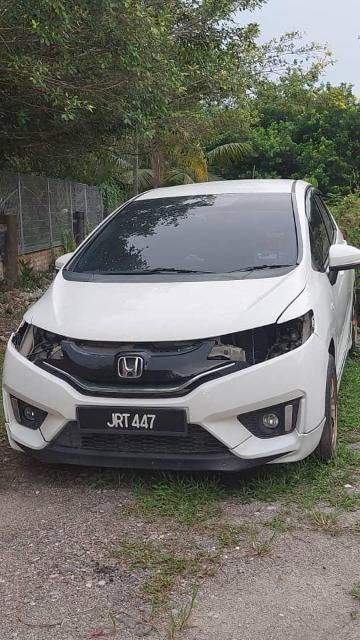License_Plate: (86, 405, 175, 435)
car: (2, 170, 355, 483)
